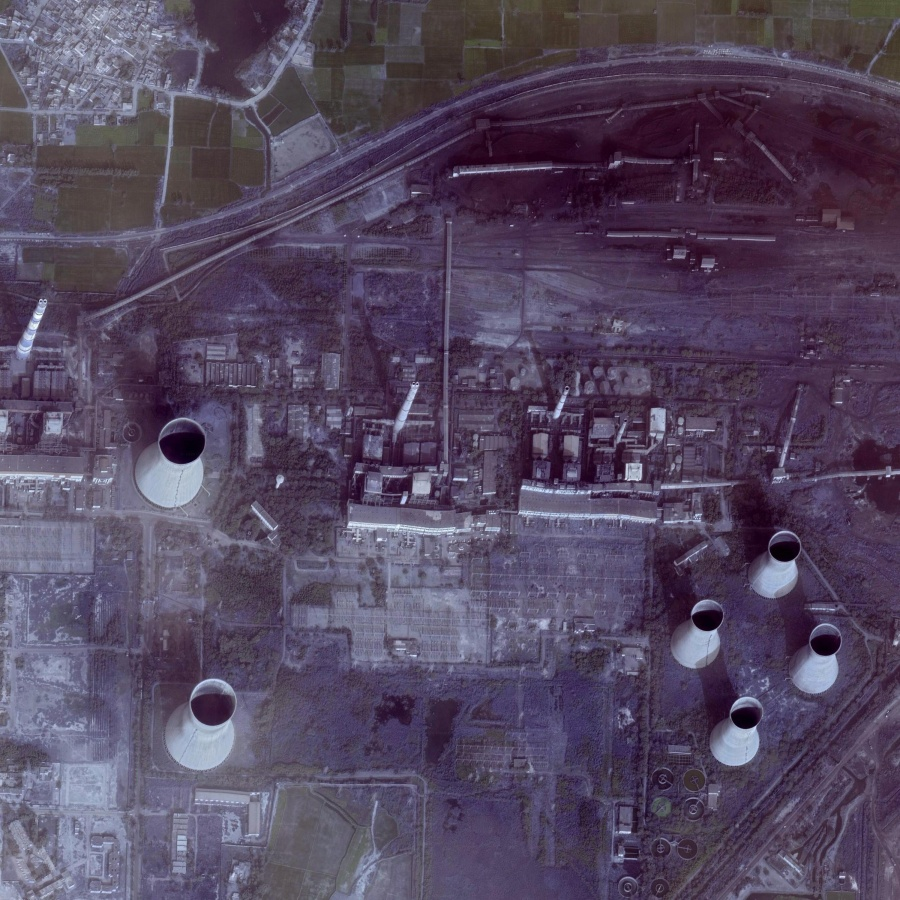PowerPlant: (347, 331, 842, 768)
